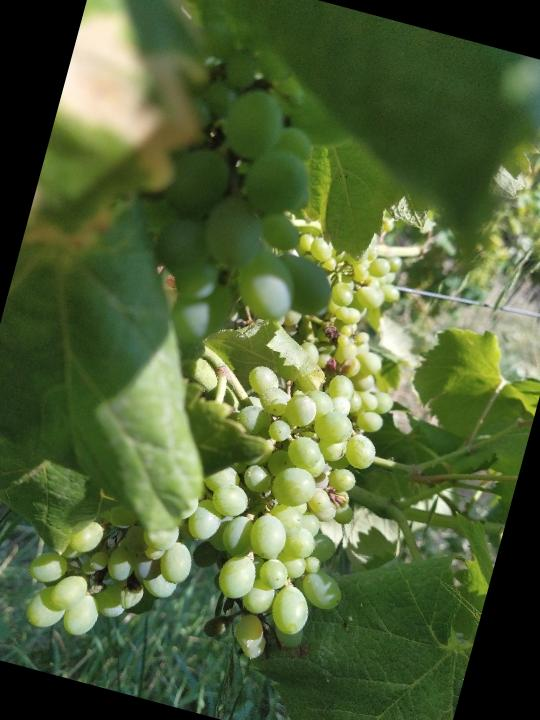grape: (12, 279, 408, 706)
